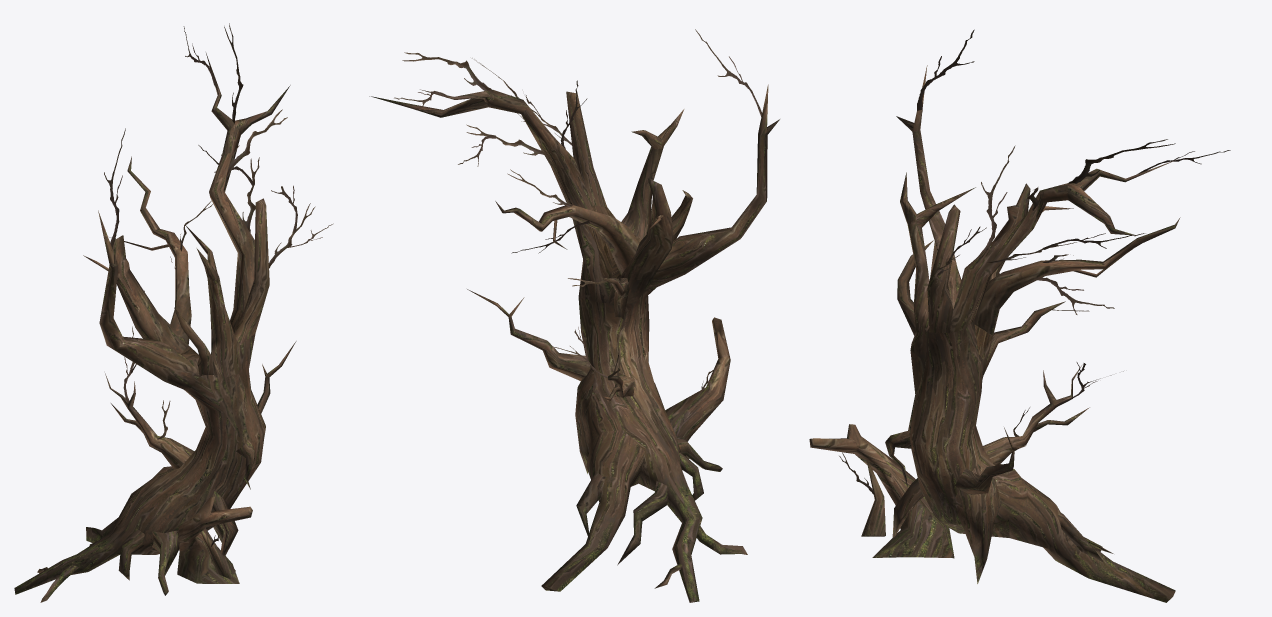
The model's file is kushu_01.FBX.
3 renders of one model, left to right at view 1: azimuth 30°, elevation 25°; view 2: azimuth 150°, elevation 25°; view 3: azimuth 270°, elevation 25°, orthographic. The views are drawn at different scales.
Parts seen in each view (by area): view 1: kushu_01; view 2: kushu_01; view 3: kushu_01.
Part boxes in pixels (x1,y1,x2,y2): kushu_01: (14,23,333,602); kushu_01: (369,29,779,602); kushu_01: (809,29,1230,602).
Size of the model in its own units: 659 by 1052 by 747.
